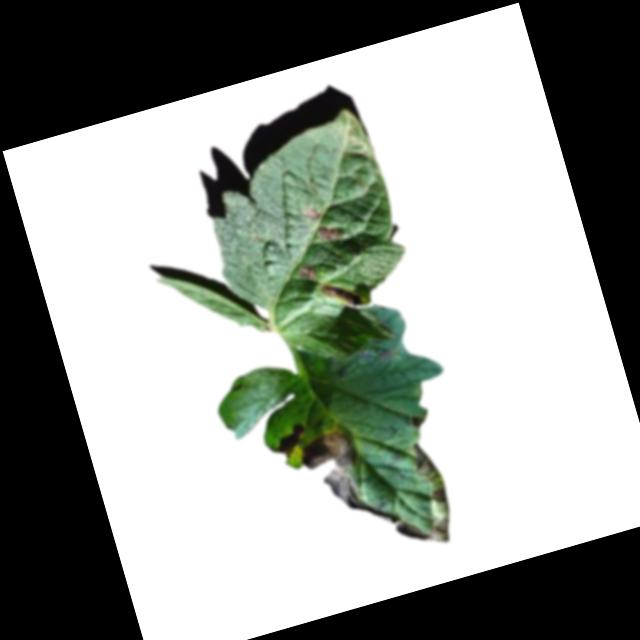Early_blight: (296, 419, 399, 542), (375, 439, 462, 557), (266, 419, 312, 462), (320, 275, 364, 316), (356, 338, 402, 369), (315, 222, 344, 245), (295, 260, 318, 284), (301, 205, 320, 223)
